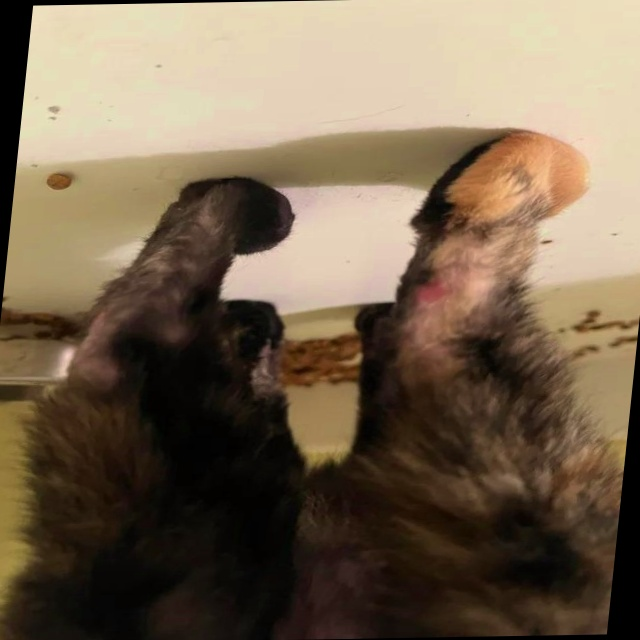hairloss: (416, 215, 478, 356), (73, 308, 123, 373)
